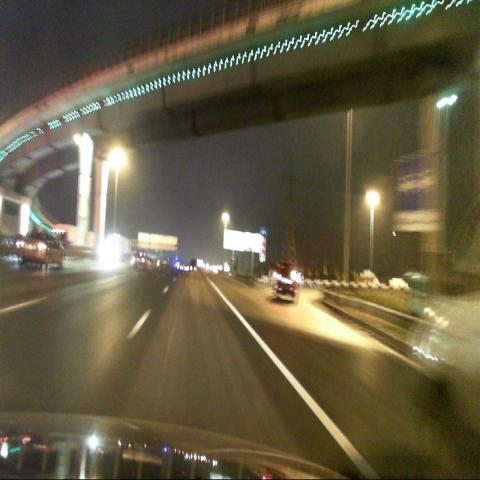5_3: (394, 156, 419, 211)
